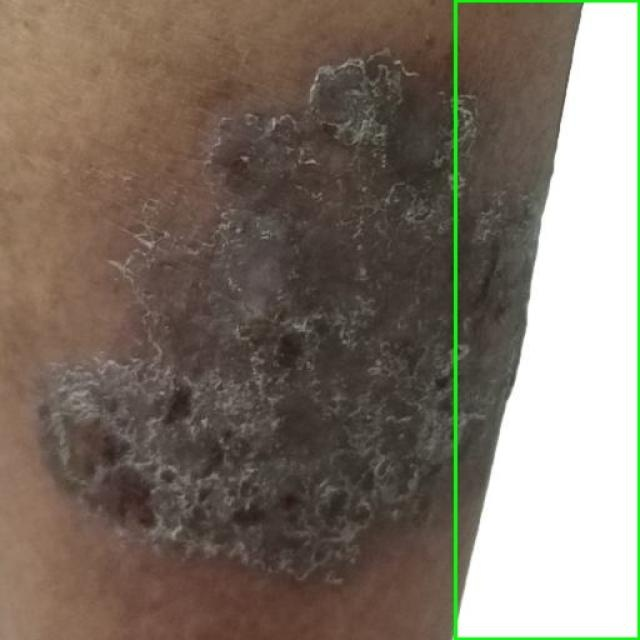Eczema: (455, 0, 639, 639)
